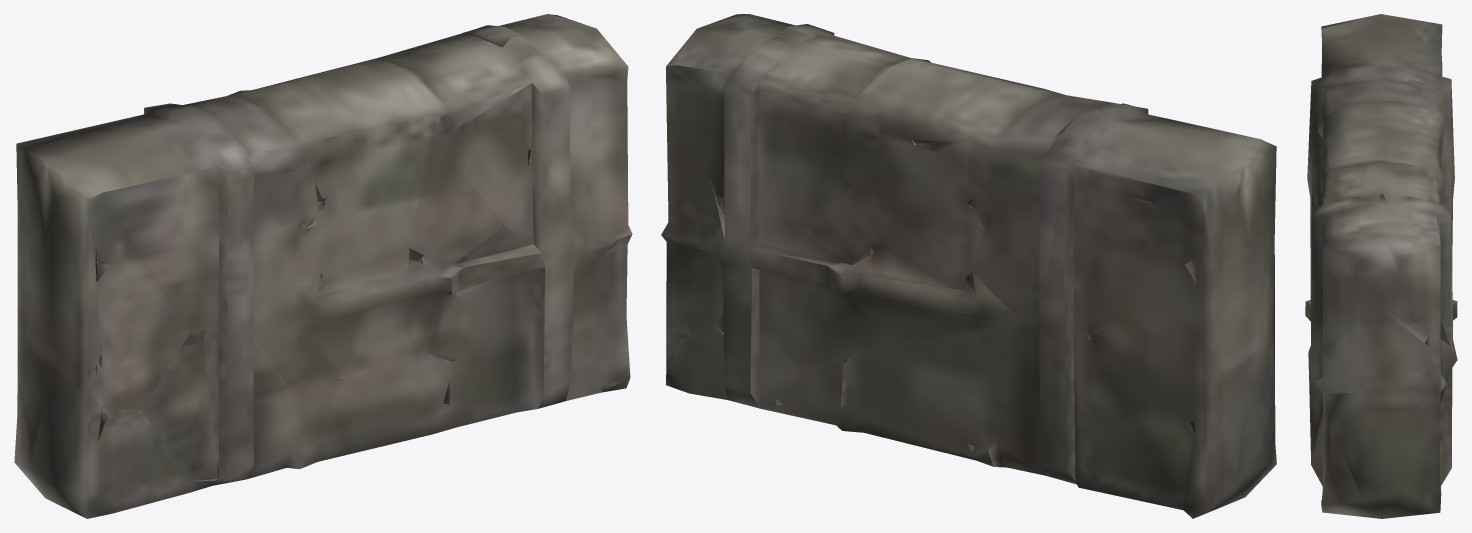
The model's file is wall_segment_1503486080_lod0m.glb.
The picture shows the model from 3 angles, left to right: view 1: azimuth 30°, elevation 25°; view 2: azimuth 150°, elevation 25°; view 3: azimuth 270°, elevation 25°; orthographic projection. The views are drawn at different scales.
Size of the model in its own units: 4.99 by 3.06 by 1.42.
1 material, 1 textured.
